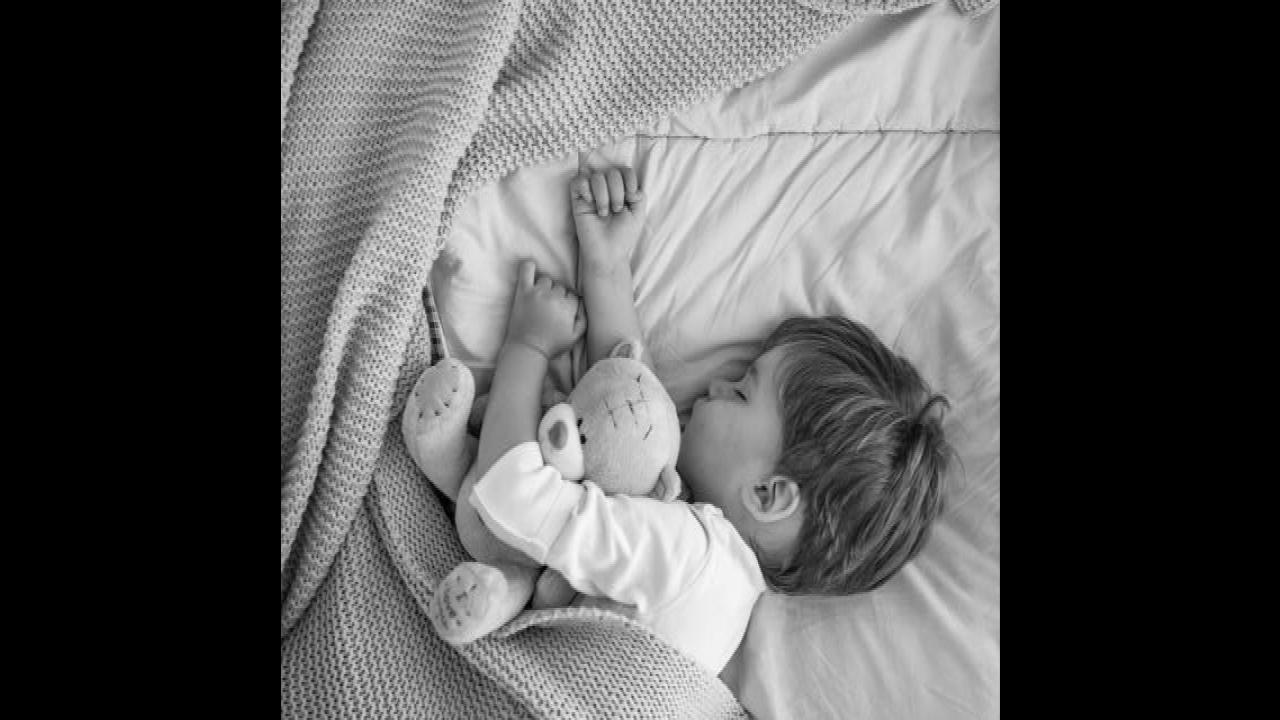hand: (505, 266, 583, 360), (573, 168, 643, 262)
